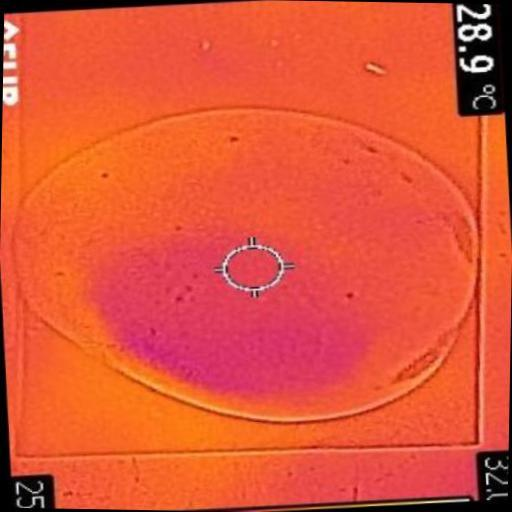alphanso: (15, 109, 477, 421)
